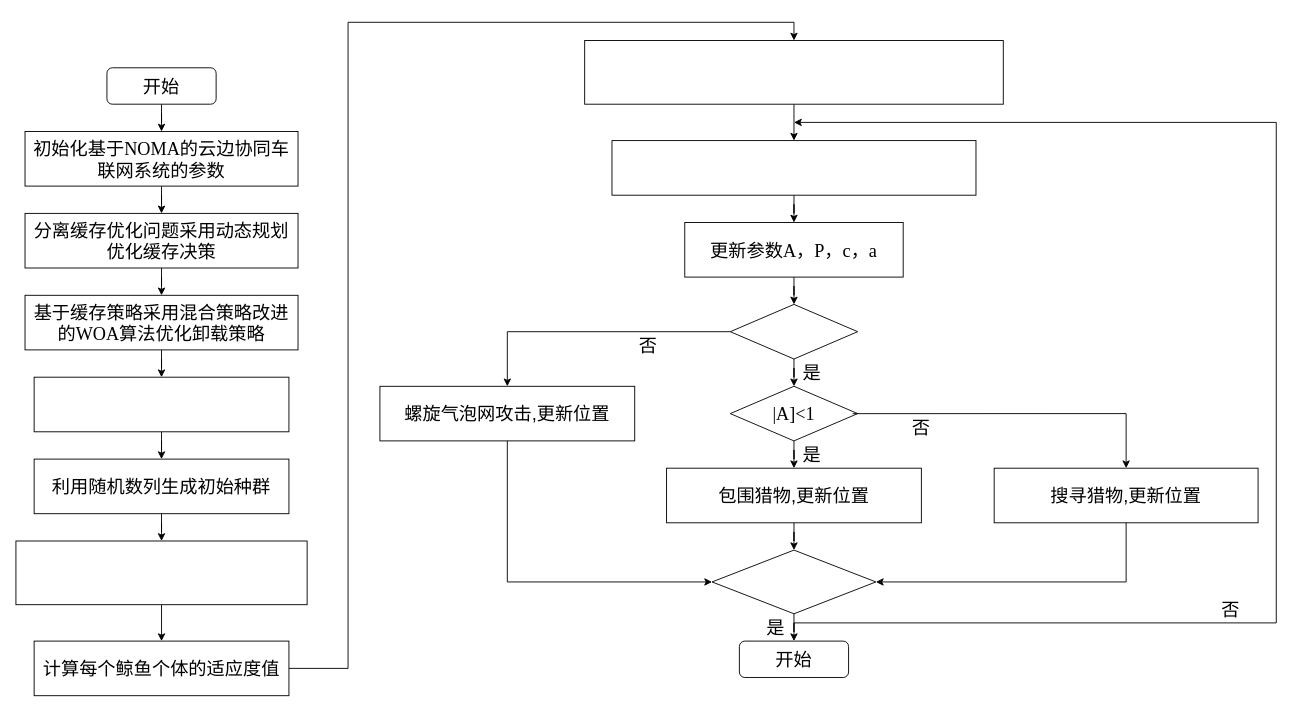
This 1299x712 diagram has some shape labels left out. Here are the shapes that lost their labels. From the top down, the centre of each, then its label:
point 793,72: 从随机初始化鲸鱼群体和反向鲸鱼群体中选取个体适应度值较高的前 N 个鲸鱼个体作为算法初始化种群
point 793,167: 更新鲸鱼种群位置并记录最优鲸鱼个体信息
point 793,331: p<0.5
point 161,404: 初始化鲸鱼算法中的各个参数
point 161,572: 对随机初始化鲸鱼的种群使用折射反向学习策略得到反向鲸鱼种群
point 793,581: 最大迭代次数
